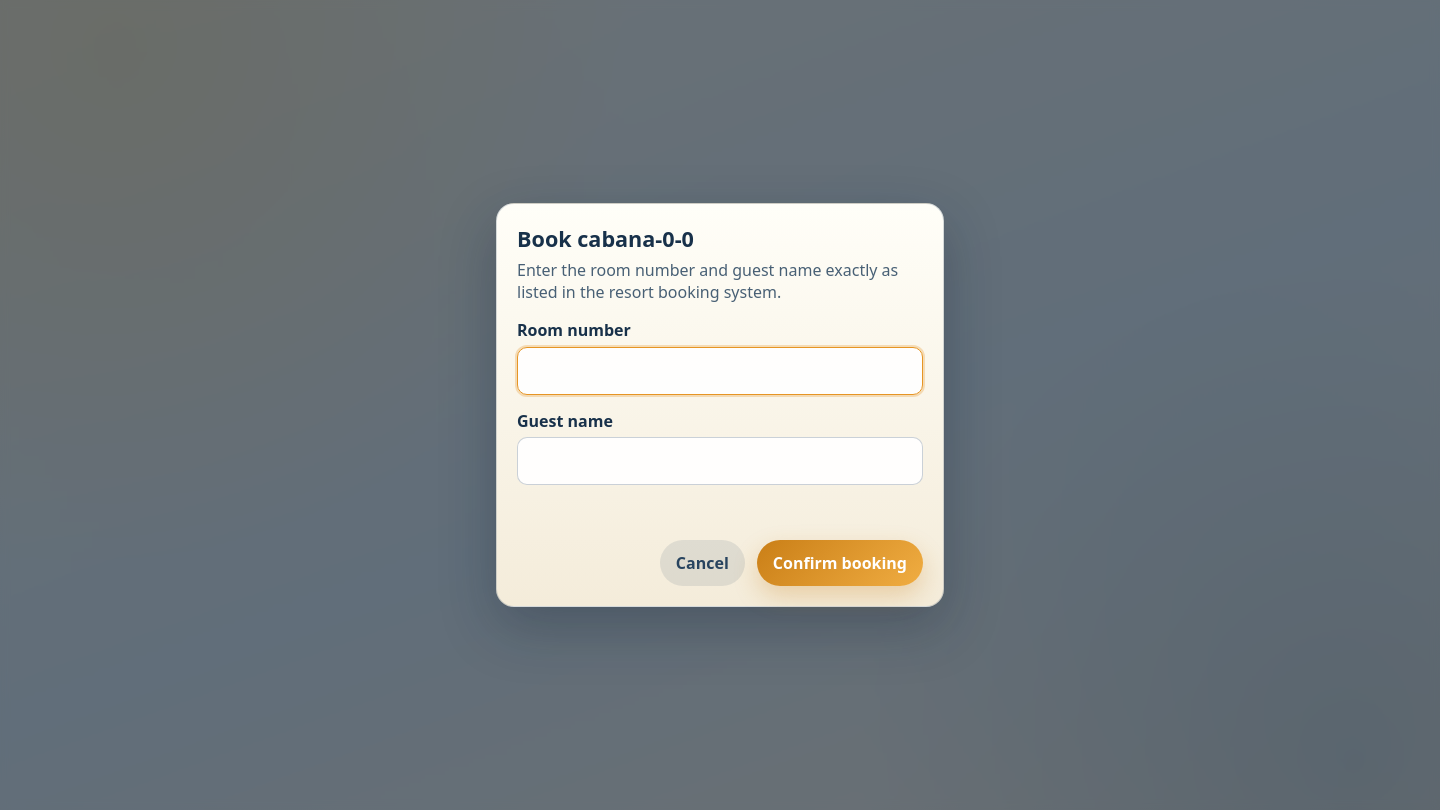
Test case: BookingModal › validates guest name format before submit
The width and height of the screenshot is (1440, 810).
Type "101" into the field labelled "Room number".
click(720, 370); type("101")  # box [517,346,923,394]
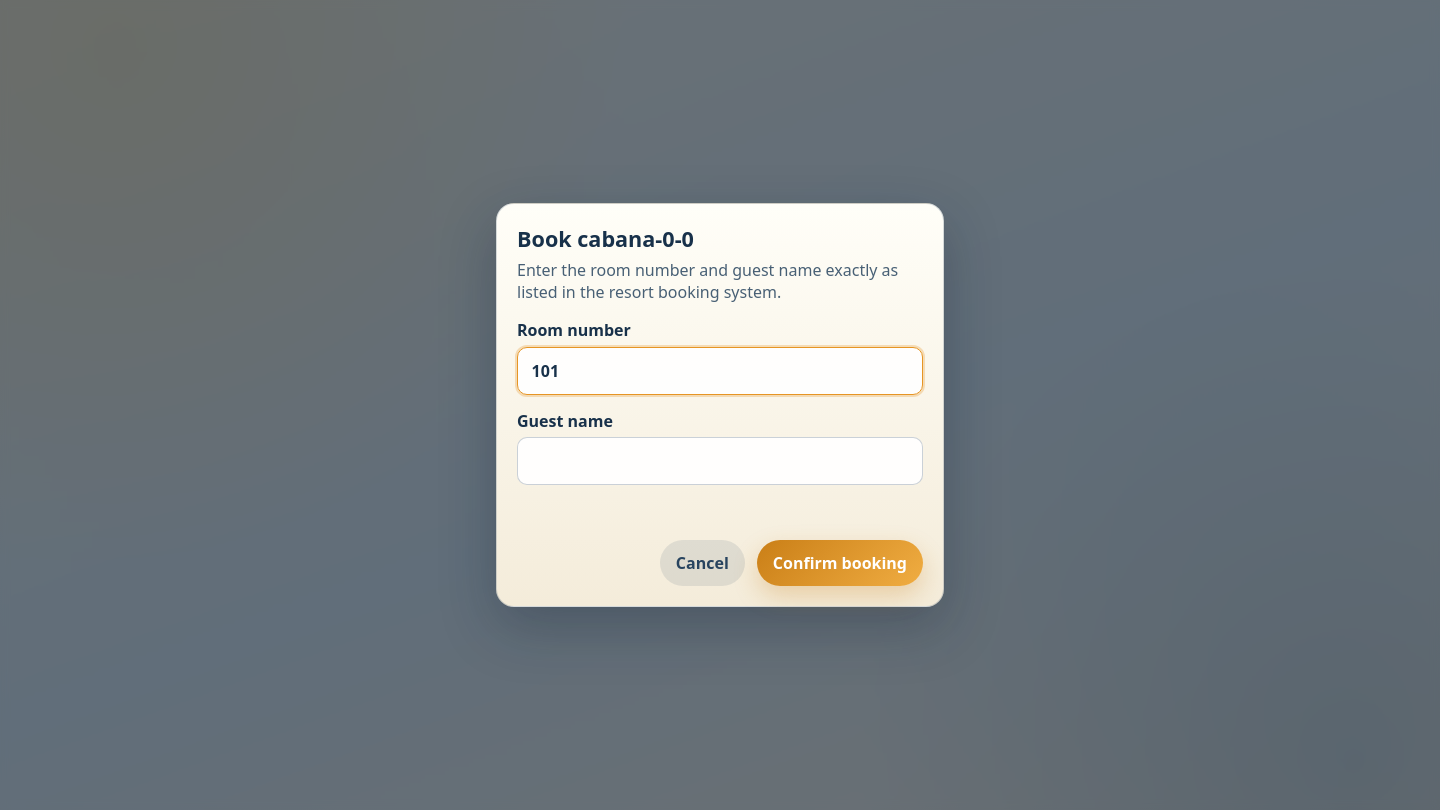
Type "1234" into the field labelled "Guest name".
click(720, 461); type("1234")  # box [517,437,923,485]
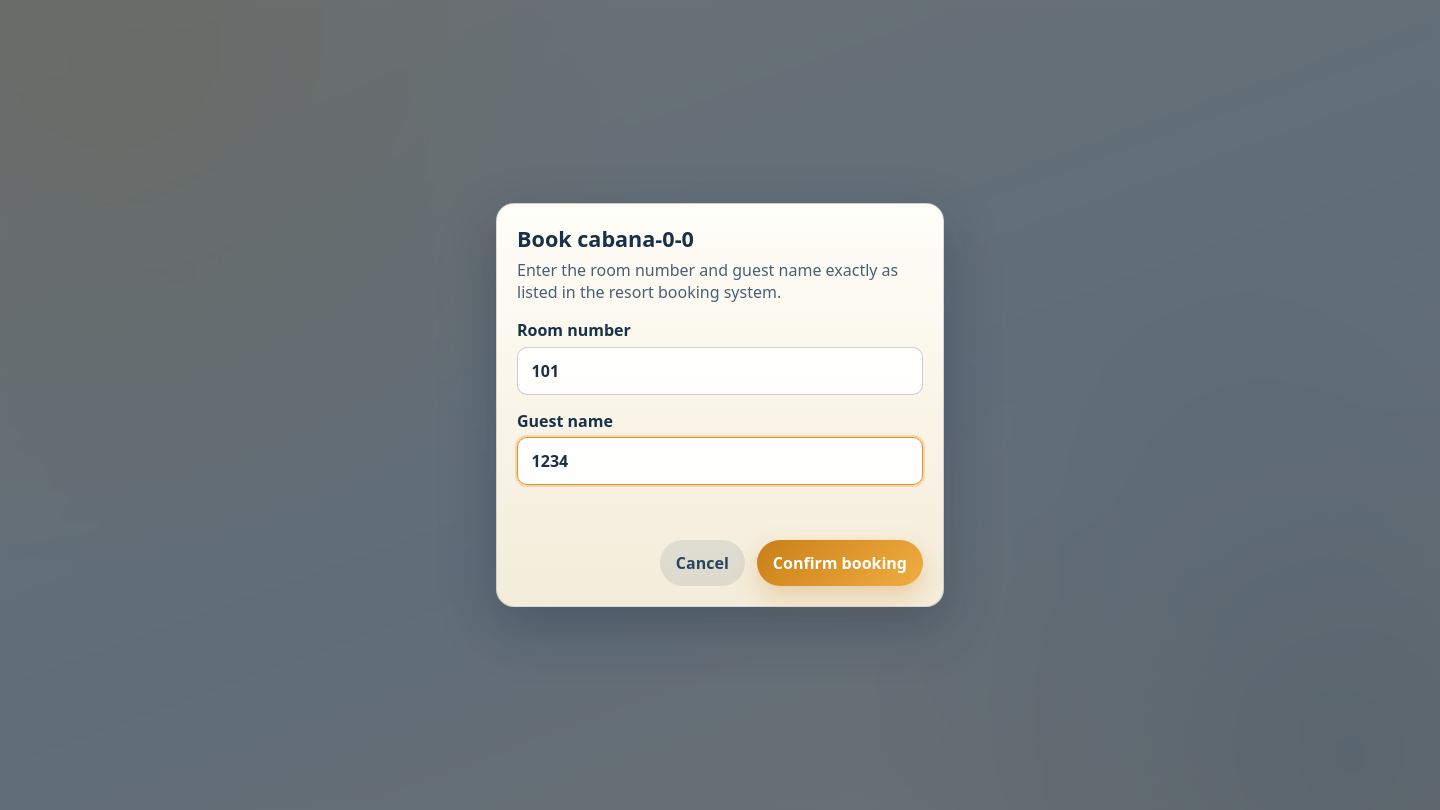
Click the button "Confirm booking".
click(840, 563)  # box [757,540,923,586]
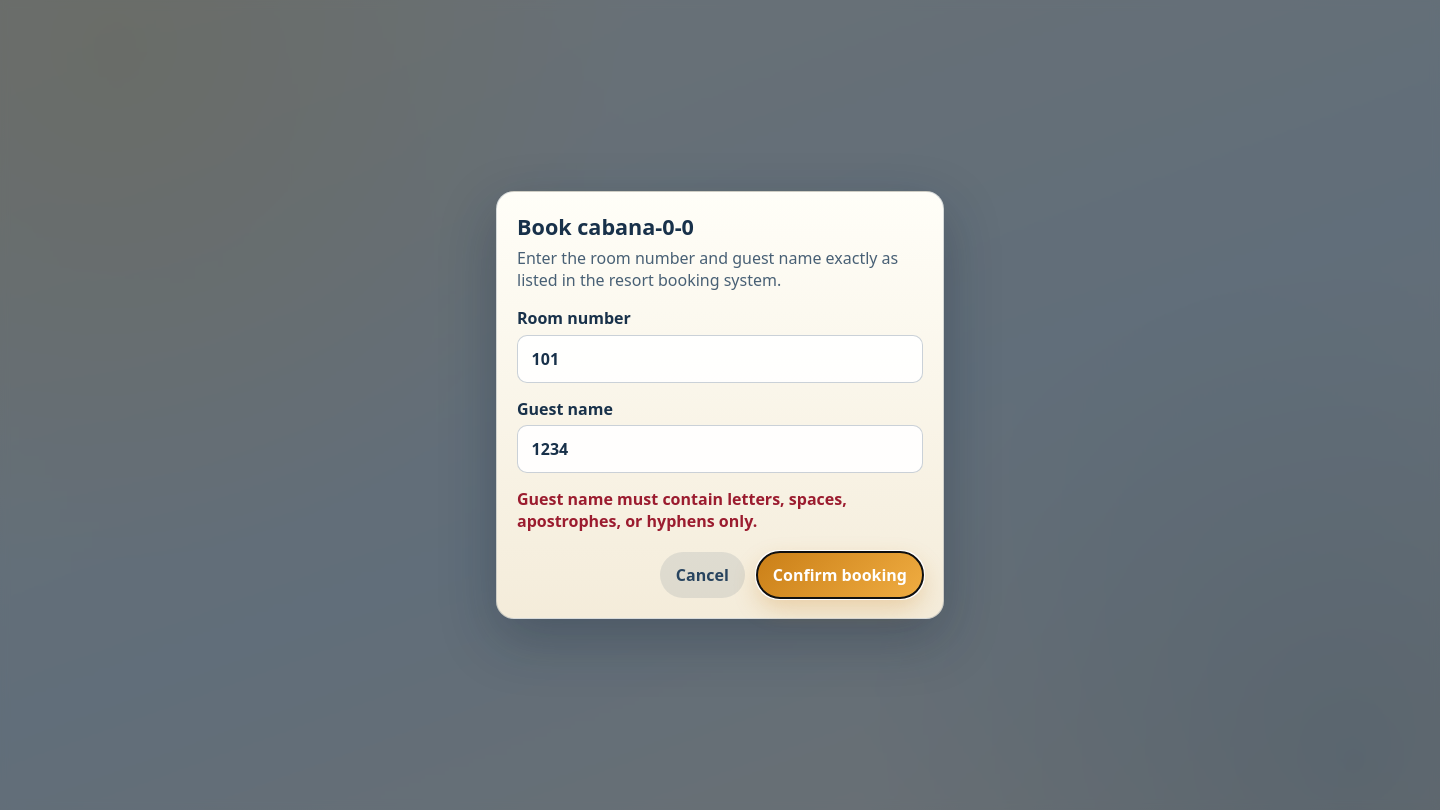
Now the text "Guest name must contain letters, spaces, apostrophes, or hyphens only." is shown, box [517,488,847,532]
